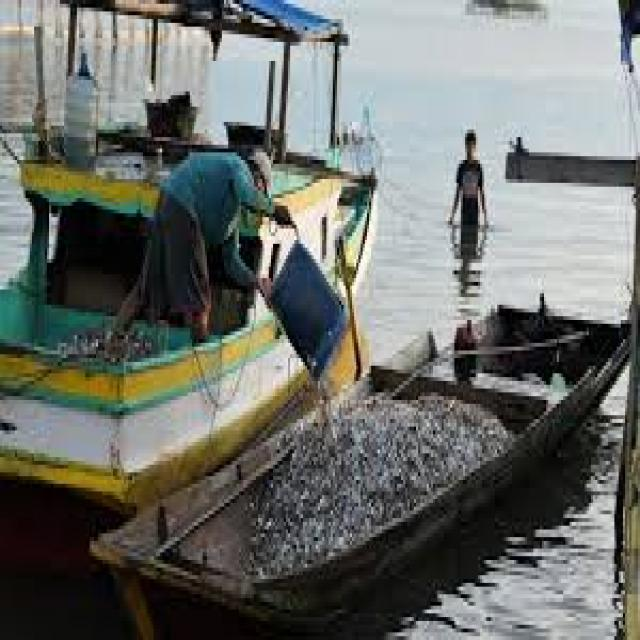Fishing Boat: (59, 53, 640, 578)
